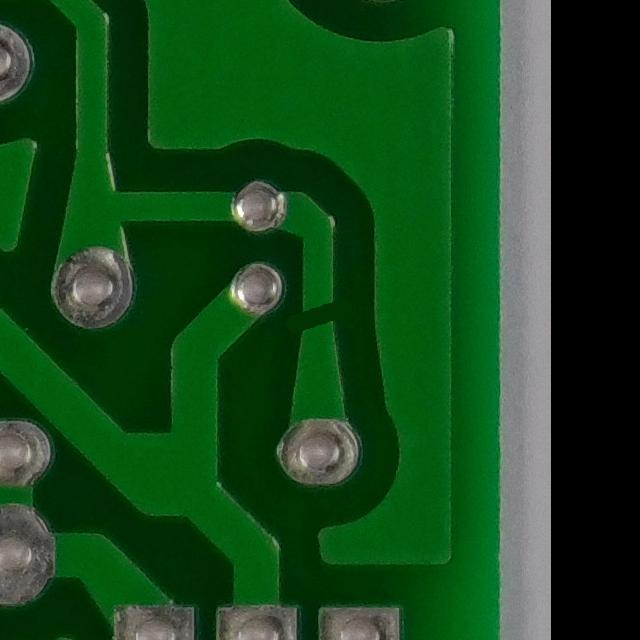open_circuit: (289, 295, 351, 345)
